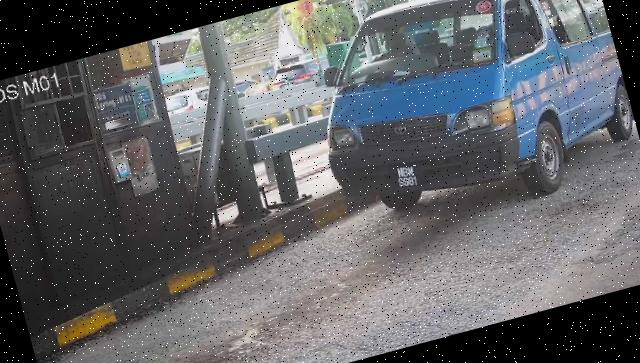License_Plate: (391, 159, 426, 196)
van: (294, 1, 640, 247)
